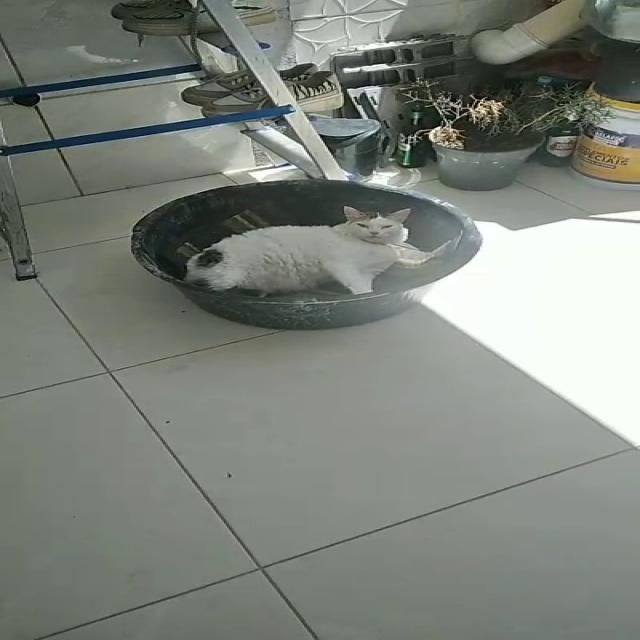Simba: (166, 185, 460, 305)
